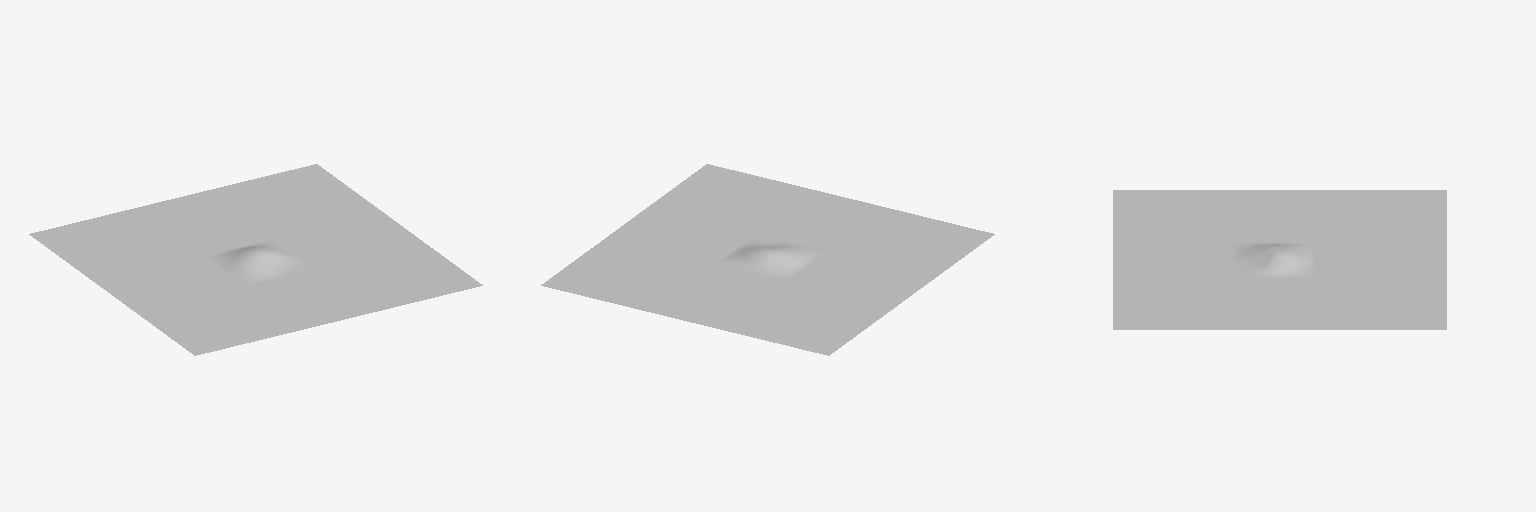
The model's file is terrain.obj.
The picture shows the model from 3 angles: view 1: azimuth 30°, elevation 25°; view 2: azimuth 150°, elevation 25°; view 3: azimuth 270°, elevation 25°; orthographic projection.
Size of the model in its own units: 40 by 1.04 by 40.